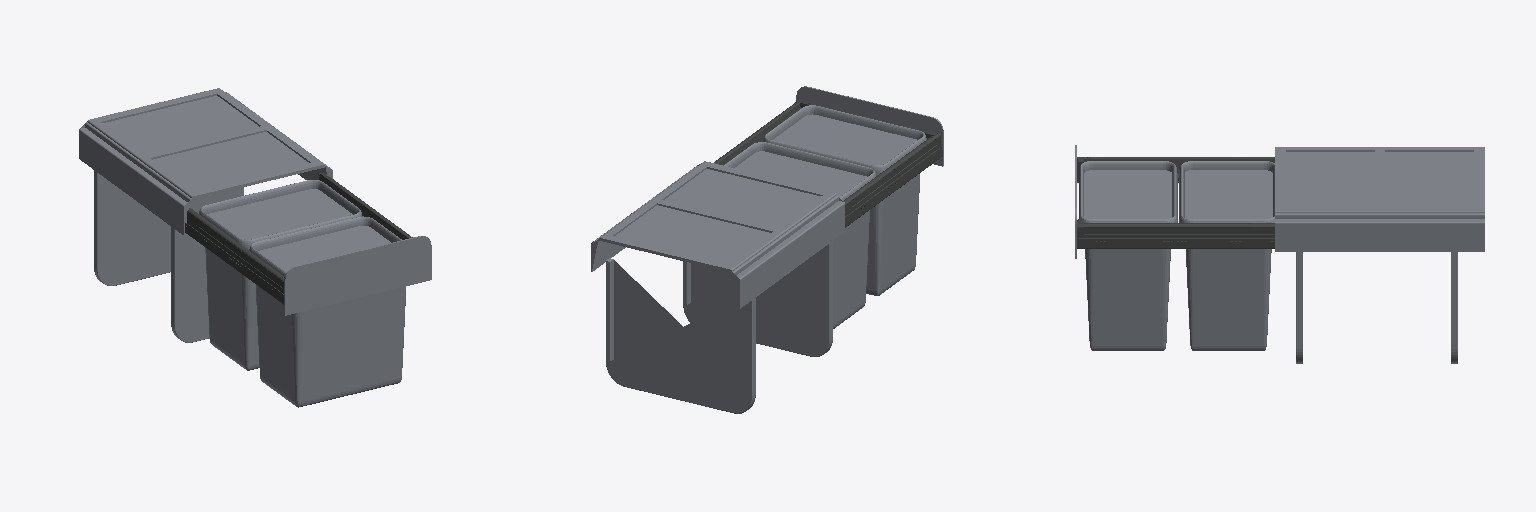
Rendered from musorka.obj.
3 views of the same model, side by side, from view 1: azimuth 30°, elevation 25°; view 2: azimuth 150°, elevation 25°; view 3: azimuth 270°, elevation 25° (orthographic).
Parts seen in each view (by area): view 1: Mesh12 Group5 Component_3_1 Model, Mesh2 Group3 Component_47_1 Group1 Component_3_1 Model, Mesh3 Group4 Component_47_2 Group1 Component_3_1 Model, Mesh1 Group2 Group1 Component_3_1 Model, Mesh13 Component_1_1 Component_3_1 Model, Mesh14 Component_1_2 Component_3_1 Model, Mesh7 G_378M5002S_TANDEMBOX_M_500___________________________ Com, Mesh4 G_558_5001B_______________TANDEMBOX__500__________________, Mesh11 G_378M5002S_TANDEMBOX_M_500___________________________1 C; view 2: Mesh12 Group5 Component_3_1 Model, Mesh13 Component_1_1 Component_3_1 Model, Mesh2 Group3 Component_47_1 Group1 Component_3_1 Model, Mesh14 Component_1_2 Component_3_1 Model, Mesh3 Group4 Component_47_2 Group1 Component_3_1 Model, Mesh1 Group2 Group1 Component_3_1 Model, Mesh7 G_378M5002S_TANDEMBOX_M_500___________________________ Com, Mesh4 G_558_5001B_______________TANDEMBOX__500__________________, Mesh11 G_378M5002S_TANDEMBOX_M_500___________________________1 C; view 3: Mesh12 Group5 Component_3_1 Model, Mesh2 Group3 Component_47_1 Group1 Component_3_1 Model, Mesh3 Group4 Component_47_2 Group1 Component_3_1 Model, Mesh11 G_378M5002S_TANDEMBOX_M_500___________________________1 C, Mesh8 G_558_5001B_______________TANDEMBOX__500__________________, Mesh7 G_378M5002S_TANDEMBOX_M_500___________________________ Com, Mesh13 Component_1_1 Component_3_1 Model, Mesh14 Component_1_2 Component_3_1 Model.
Part boxes in pixels (left/top/right/bottom): Mesh12 Group5 Component_3_1 Model: left=79, top=88, right=332, bottom=234; Mesh2 Group3 Component_47_1 Group1 Component_3_1 Model: left=249, top=216, right=405, bottom=407; Mesh3 Group4 Component_47_2 Group1 Component_3_1 Model: left=199, top=180, right=362, bottom=370; Mesh1 Group2 Group1 Component_3_1 Model: left=284, top=236, right=431, bottom=315; Mesh13 Component_1_1 Component_3_1 Model: left=94, top=170, right=243, bottom=285; Mesh14 Component_1_2 Component_3_1 Model: left=171, top=227, right=209, bottom=342; Mesh7 G_378M5002S_TANDEMBOX_M_500___________________________ Com: left=186, top=208, right=284, bottom=293; Mesh4 G_558_5001B_______________TANDEMBOX__500__________________: left=185, top=223, right=283, bottom=304; Mesh11 G_378M5002S_TANDEMBOX_M_500___________________________1 C: left=319, top=172, right=412, bottom=239; Mesh12 Group5 Component_3_1 Model: left=591, top=161, right=844, bottom=308; Mesh13 Component_1_1 Component_3_1 Model: left=606, top=258, right=755, bottom=413; Mesh2 Group3 Component_47_1 Group1 Component_3_1 Model: left=763, top=105, right=926, bottom=295; Mesh14 Component_1_2 Component_3_1 Model: left=683, top=241, right=832, bottom=356; Mesh3 Group4 Component_47_2 Group1 Component_3_1 Model: left=723, top=142, right=875, bottom=328; Mesh1 Group2 Group1 Component_3_1 Model: left=796, top=86, right=943, bottom=166; Mesh7 G_378M5002S_TANDEMBOX_M_500___________________________ Com: left=844, top=132, right=940, bottom=216; Mesh4 G_558_5001B_______________TANDEMBOX__500__________________: left=845, top=147, right=942, bottom=227; Mesh11 G_378M5002S_TANDEMBOX_M_500___________________________1 C: left=714, top=100, right=803, bottom=164; Mesh12 Group5 Component_3_1 Model: left=1275, top=147, right=1484, bottom=251; Mesh2 Group3 Component_47_1 Group1 Component_3_1 Model: left=1079, top=161, right=1177, bottom=350; Mesh3 Group4 Component_47_2 Group1 Component_3_1 Model: left=1179, top=161, right=1274, bottom=350; Mesh11 G_378M5002S_TANDEMBOX_M_500___________________________1 C: left=1077, top=222, right=1274, bottom=241; Mesh8 G_558_5001B_______________TANDEMBOX__500__________________: left=1077, top=238, right=1274, bottom=248; Mesh7 G_378M5002S_TANDEMBOX_M_500___________________________ Com: left=1077, top=157, right=1274, bottom=182; Mesh13 Component_1_1 Component_3_1 Model: left=1451, top=252, right=1457, bottom=363; Mesh14 Component_1_2 Component_3_1 Model: left=1296, top=252, right=1302, bottom=363.
Size of the model in its own units: 410 by 414 by 971.